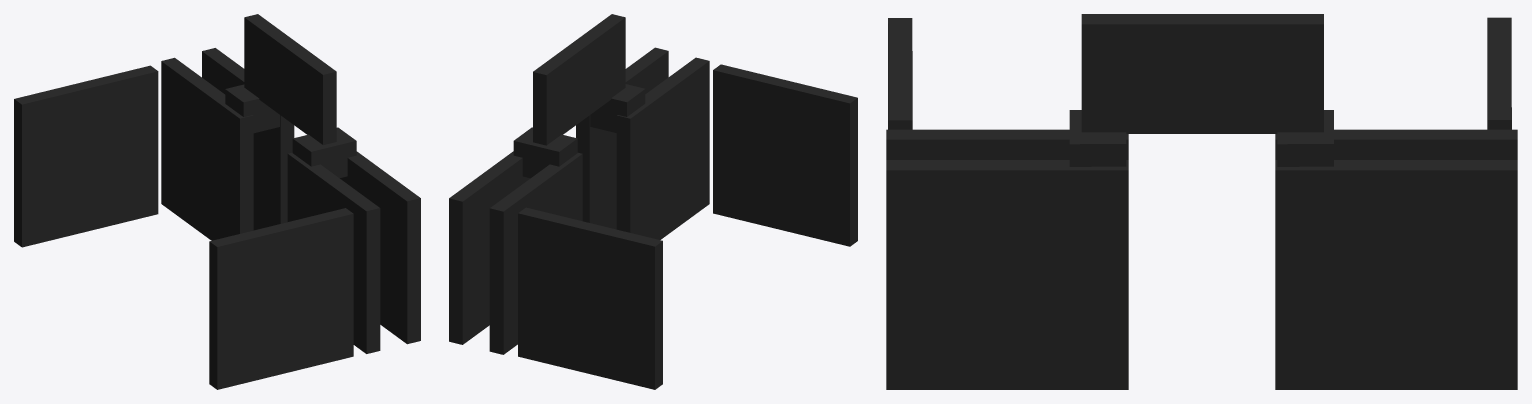
Rendered from Static_0_5friction.fbx.
3 renders of one model, left to right at view 1: azimuth 30°, elevation 25°; view 2: azimuth 150°, elevation 25°; view 3: azimuth 270°, elevation 25°, orthographic. The views are drawn at different scales.
Visible parts, largest first — view 1: S1StaticBox6, S1StaticBox5, S1StaticBox4, S1StaticBox9, S1StaticBox2, S1StaticBox1, S1StaticBox3, S1StaticBox8, S1StaticBox7; view 2: S1StaticBox5, S1StaticBox6, S1StaticBox1, S1StaticBox9, S1StaticBox3, S1StaticBox4, S1StaticBox2, S1StaticBox7, S1StaticBox8; view 3: S1StaticBox2, S1StaticBox3, S1StaticBox9, S1StaticBox1, S1StaticBox4, S1StaticBox5, S1StaticBox6, S1StaticBox8, S1StaticBox7.
Part boxes in pixels (x1=…): S1StaticBox6: x1=209, y1=208, x2=353, y2=389; S1StaticBox5: x1=14, y1=65, x2=158, y2=247; S1StaticBox4: x1=161, y1=57, x2=253, y2=240; S1StaticBox9: x1=244, y1=14, x2=336, y2=144; S1StaticBox2: x1=340, y1=151, x2=420, y2=344; S1StaticBox1: x1=287, y1=152, x2=380, y2=353; S1StaticBox3: x1=202, y1=48, x2=294, y2=230; S1StaticBox8: x1=292, y1=127, x2=356, y2=178; S1StaticBox7: x1=225, y1=84, x2=279, y2=133; S1StaticBox5: x1=518, y1=207, x2=662, y2=389; S1StaticBox6: x1=713, y1=64, x2=857, y2=246; S1StaticBox1: x1=616, y1=57, x2=709, y2=239; S1StaticBox9: x1=533, y1=14, x2=625, y2=145; S1StaticBox3: x1=449, y1=151, x2=530, y2=344; S1StaticBox4: x1=489, y1=152, x2=582, y2=354; S1StaticBox2: x1=576, y1=47, x2=668, y2=229; S1StaticBox7: x1=513, y1=127, x2=577, y2=178; S1StaticBox8: x1=590, y1=84, x2=645, y2=132; S1StaticBox2: x1=886, y1=160, x2=1128, y2=389; S1StaticBox3: x1=1275, y1=160, x2=1517, y2=389; S1StaticBox9: x1=1081, y1=14, x2=1323, y2=133; S1StaticBox1: x1=886, y1=129, x2=1128, y2=159; S1StaticBox4: x1=1275, y1=129, x2=1517, y2=159; S1StaticBox5: x1=1487, y1=17, x2=1511, y2=129; S1StaticBox6: x1=888, y1=18, x2=912, y2=129; S1StaticBox8: x1=1069, y1=110, x2=1126, y2=166; S1StaticBox7: x1=1277, y1=110, x2=1333, y2=166.
Size of what is drawn, in the model's own units: 44.7 by 47.84 by 78.17.
